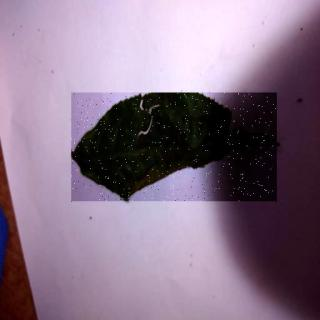Bird Eye Spot: (73, 94, 279, 204)
